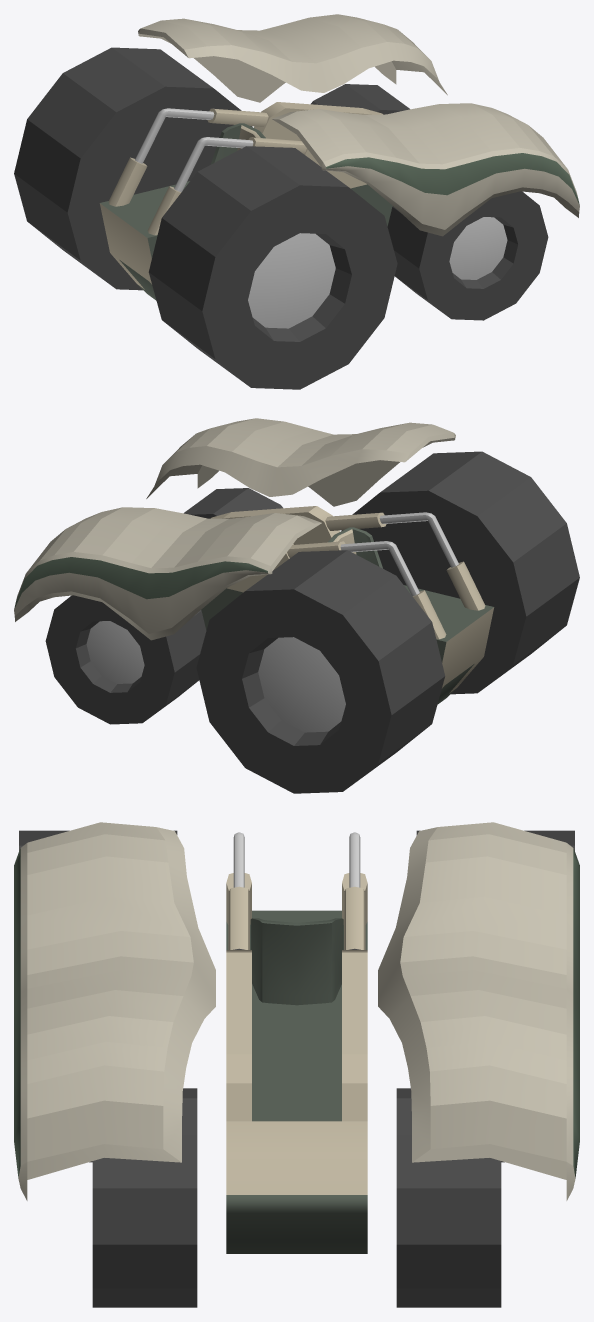
The model's file is RoundTank.fbx.
3 views of the same model, one above another, from view 1: azimuth 30°, elevation 25°; view 2: azimuth 150°, elevation 25°; view 3: azimuth 270°, elevation 25° (orthographic). The views are drawn at different scales.
Visible parts, largest first — view 1: TireFrontLeft, TireFrontRight, SideFenderLeft, SideFenderRight, TireRearLeft, RoundTankChassis, RollcageRight, RollcageLeft, TireRearRight, originalSeat; view 2: TireFrontRight, TireFrontLeft, SideFenderRight, SideFenderLeft, TireRearRight, RoundTankChassis, RollcageLeft, RollcageRight, TireRearLeft, originalSeat; view 3: SideFenderLeft, SideFenderRight, RoundTankChassis, TireRearRight, TireRearLeft, originalSeat, RollcageRight, RollcageLeft.
Part boxes in pixels (x1,y1,x2,y2): TireFrontLeft: [148, 146, 397, 389]; TireFrontRight: [14, 47, 252, 290]; SideFenderLeft: [272, 103, 579, 236]; SideFenderRight: [138, 14, 447, 102]; TireRearLeft: [387, 191, 548, 320]; RoundTankChassis: [99, 102, 392, 300]; RollcageRight: [108, 108, 268, 206]; RollcageLeft: [147, 137, 306, 235]; TireRearRight: [311, 84, 409, 114]; originalSeat: [211, 123, 265, 164]; TireFrontRight: [196, 550, 445, 793]; TireFrontLeft: [341, 451, 579, 694]; SideFenderRight: [14, 507, 321, 640]; SideFenderLeft: [146, 418, 455, 506]; TireRearRight: [45, 595, 206, 724]; RoundTankChassis: [201, 506, 494, 704]; RollcageLeft: [325, 512, 485, 610]; RollcageRight: [287, 541, 446, 639]; TireRearLeft: [184, 488, 282, 518]; originalSeat: [328, 527, 382, 568]; SideFenderLeft: [14, 822, 215, 1200]; SideFenderRight: [378, 822, 579, 1200]; RoundTankChassis: [226, 910, 367, 1253]; TireRearRight: [396, 1088, 501, 1307]; TireRearLeft: [92, 1088, 197, 1307]; originalSeat: [250, 918, 343, 1005]; RollcageRight: [342, 832, 367, 949]; RollcageLeft: [226, 832, 251, 949].
Size of the model in its own units: 7.08 by 4.17 by 6.17.
